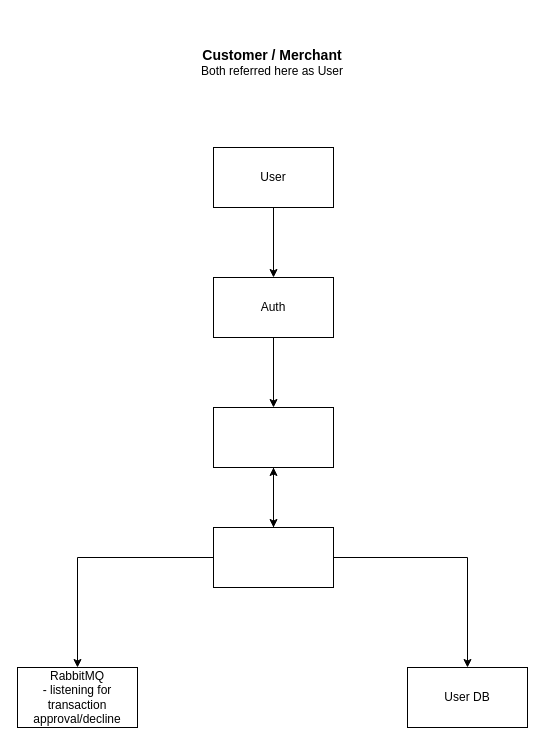
Image size: 545x745. Some labels were removed from this diagram. Here are the shapes that lost their labels. From the top down, the centre of each, then its label:
point (273, 437): User Portal
point (273, 557): User Service
